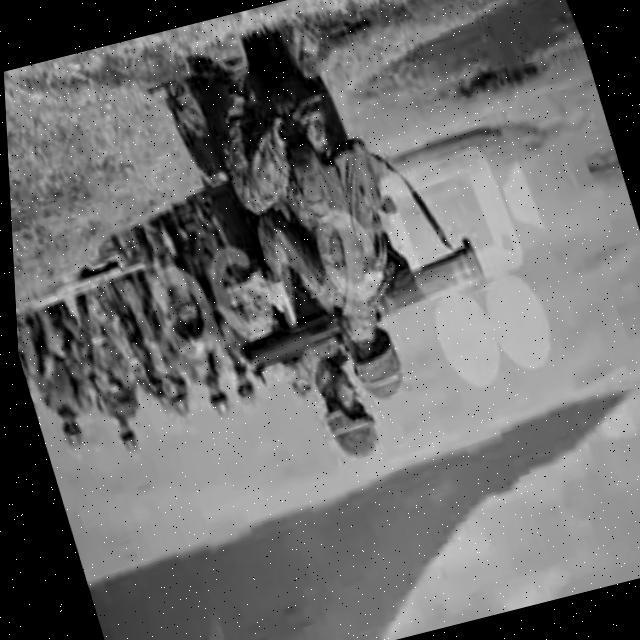rocket: (210, 236, 494, 379)
